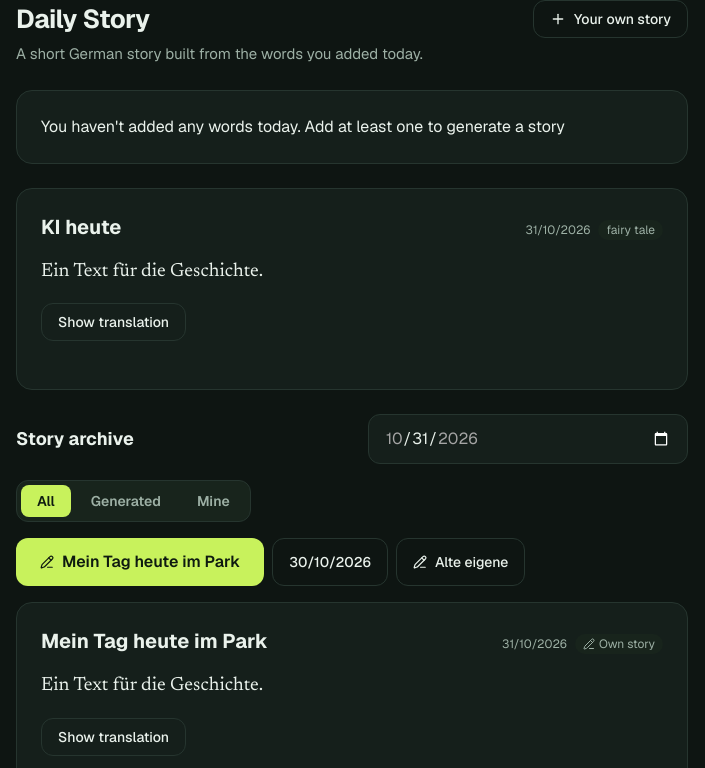
Test case: StoryPage: adding, deleting › says who wrote the translation of an own story
expect the button "Mein Tag heute im Park" is shown: met, box 16,538 -> 264,586
Step 1. Click the button "Show translation" below "Story archive" → (114, 737), box 41,718 -> 186,756
(page scrolled)
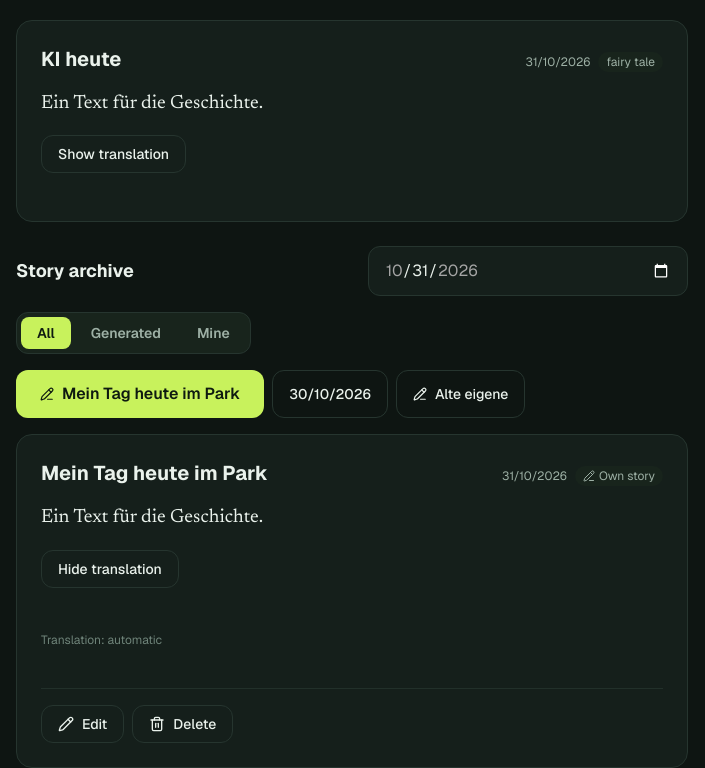
expect the text "Translation: automatic" is shown: met, box 41,632 -> 162,648
